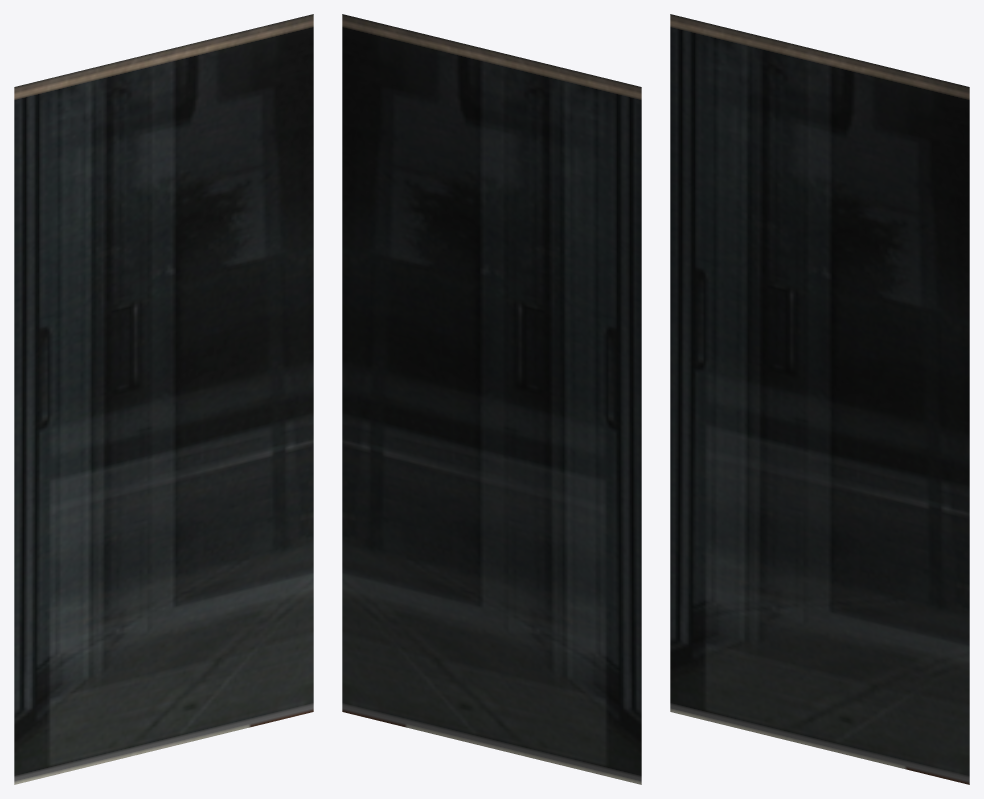
The model's file is city_door31.fbx.
3 views of the same model, side by side, from view 1: azimuth 30°, elevation 25°; view 2: azimuth 150°, elevation 25°; view 3: azimuth 330°, elevation 25° (orthographic).
Visible parts, largest first — view 1: city_door31; view 2: city_door31; view 3: city_door31.
Part boxes in pixels (x1=…): city_door31: x1=14, y1=14, x2=313, y2=784; city_door31: x1=342, y1=14, x2=641, y2=784; city_door31: x1=670, y1=14, x2=969, y2=784.
Size of the model in its own units: 123 by 0 by 273.
